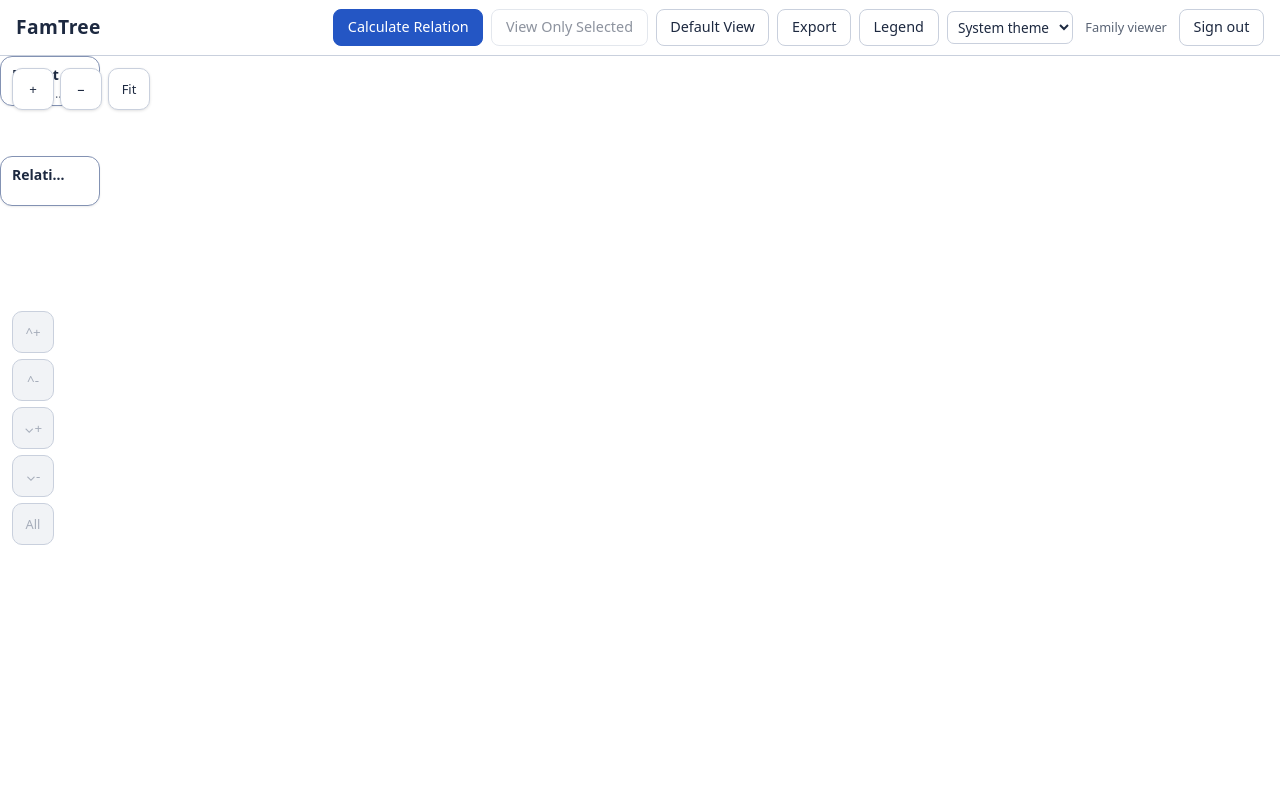
Test: changing access in the same browser › does not keep showing the private tree when the public one fails to load
Expected: the text "Secret job" is shown, [12,85,67,102]
Click the button "Sign out" at (1221, 27), box [1179,9,1264,46]
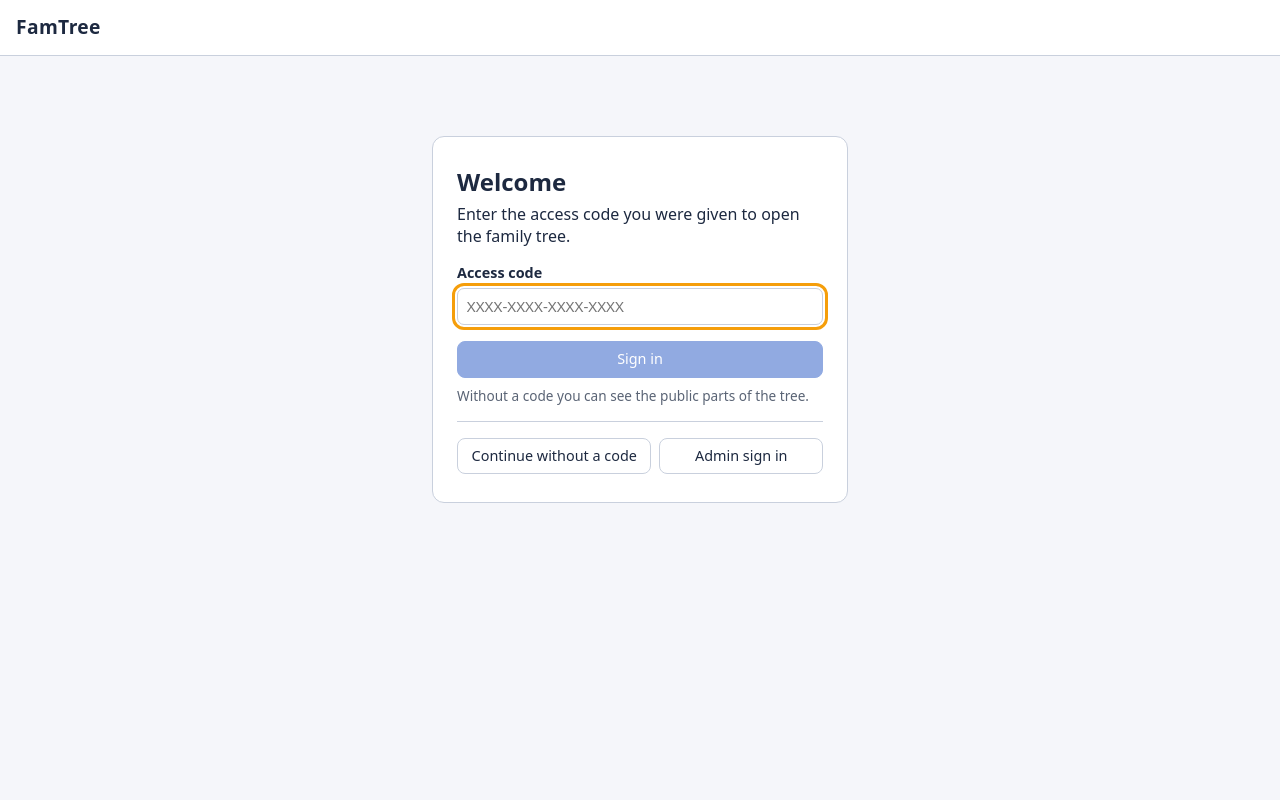
Click the button "Continue without a code" at (554, 456), box [457,438,652,474]
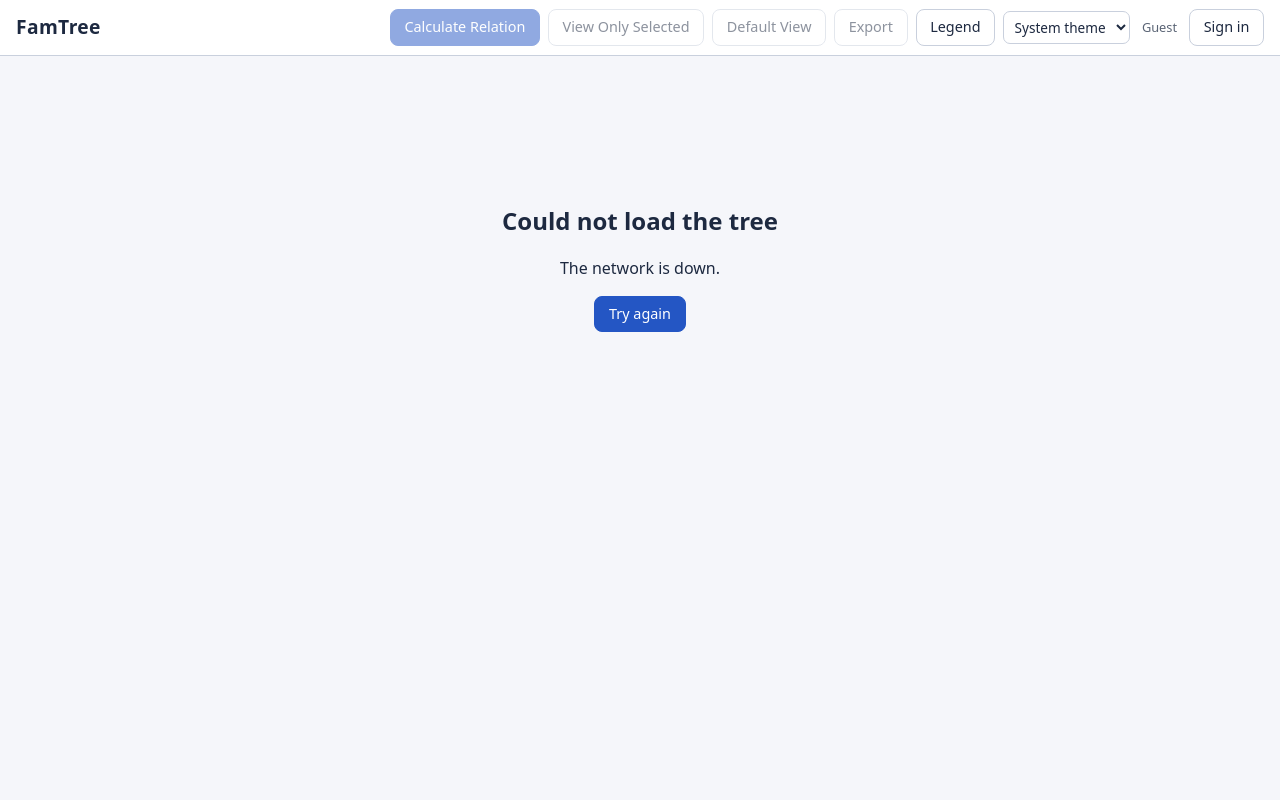
Expected: the button "Secret job" is not shown
Expected: the heading "Could not load the tree" is shown, [502,204,778,237]
